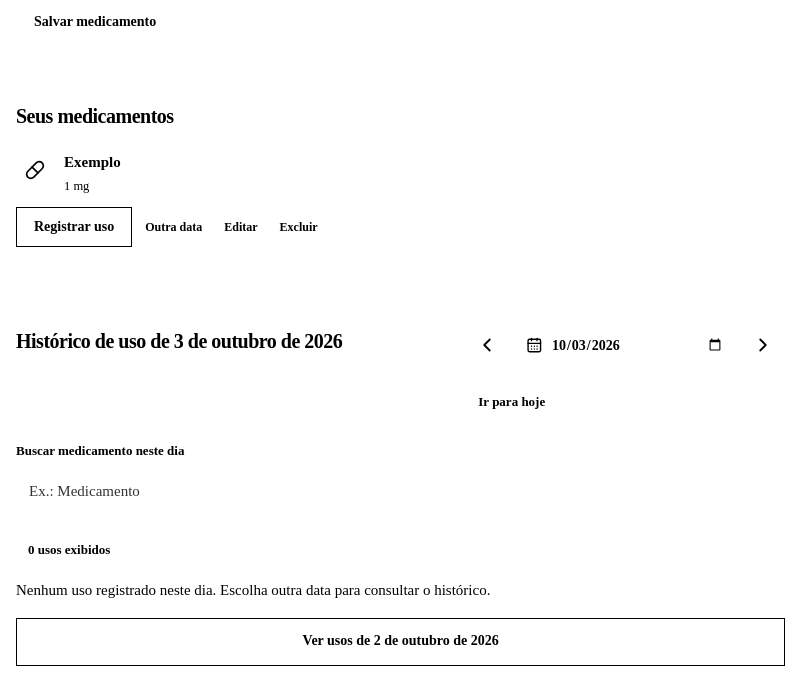
Test case: atalho experimental no histórico vazio de medicamentos › abre o último dia anterior com uso e foca a data
(page scrolled)
Click the button "Ver usos de 2 de outubro de 2026" at (401, 642), box [16,618,785,666]
(page scrolled)
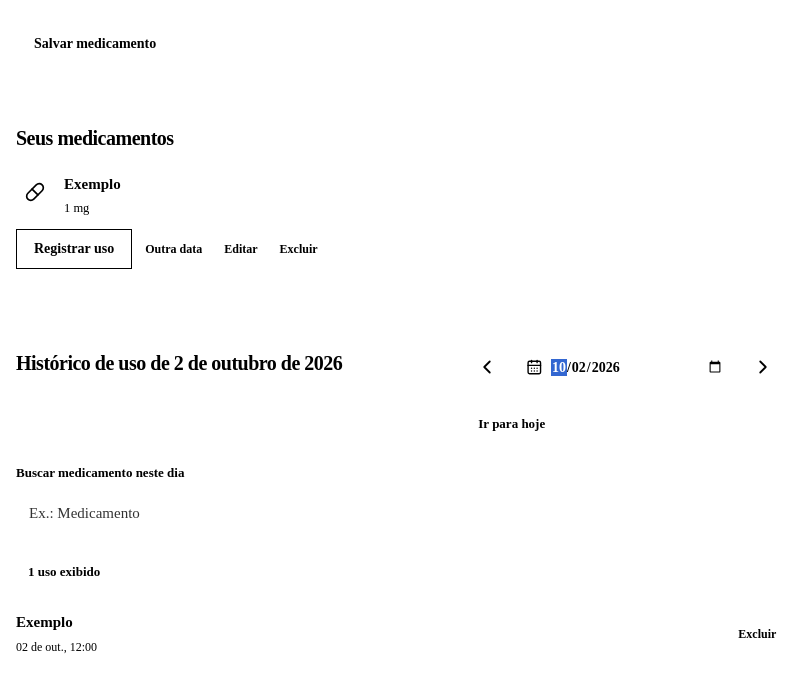
Now the date field named "Data do histórico de usos de medicação" holds "2026-10-02", box [550,356,724,379]
Now the text "Exemplo" below "1 uso exibido" is shown, box [16,614,73,630]
